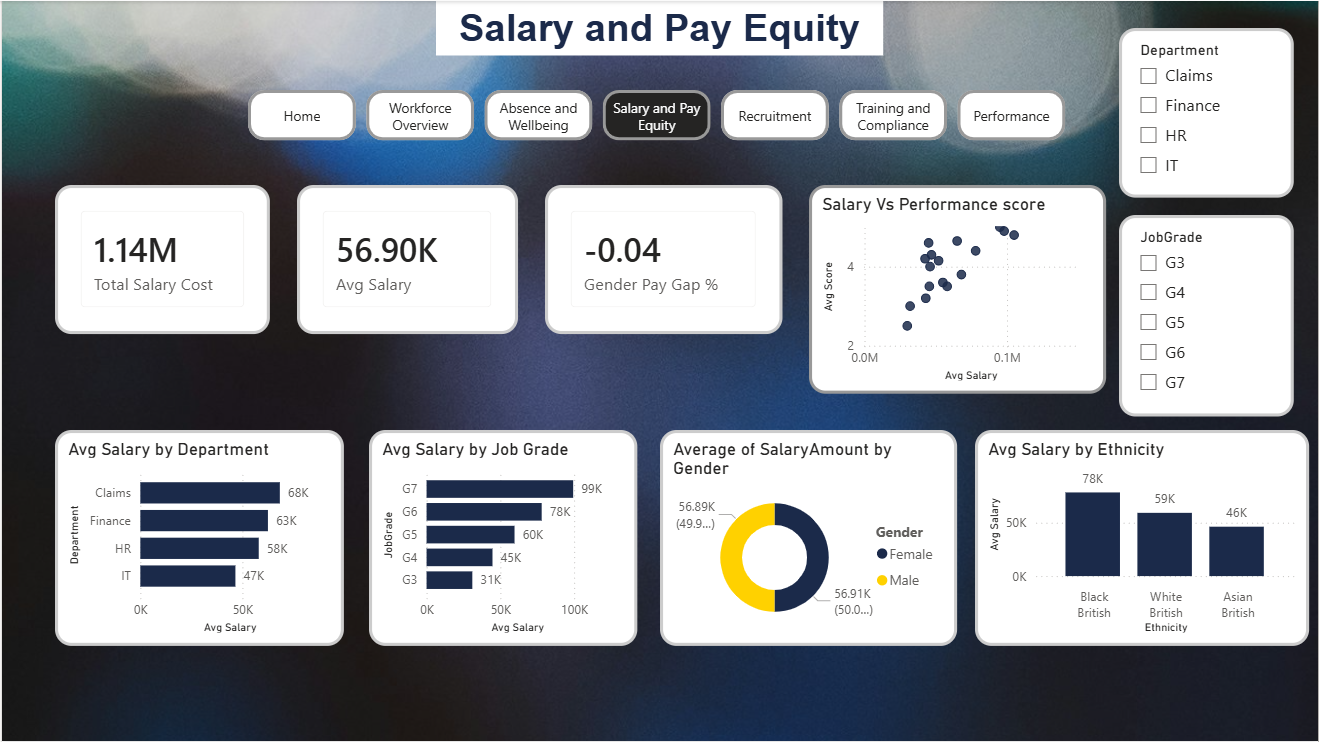

The page's visual inventory and layout, read from the dashboard file:
{"tool":"powerbi","page":{"name":"Salary and Pay Equity","canvas":[1280,720],"ordinal":3},"visuals":[{"type":"textbox","box":[422.6,0,434.8,52.5],"z":0},{"type":"pageNavigator","box":[322.9,86.6,634.2,49.6],"z":1000},{"type":"cardVisual","fields":{"Data":["Sum(Salary.SalaryAmount)"]},"box":[51.6,190.6,209.1,149.8],"z":2000},{"type":"cardVisual","fields":{"Data":["Avg(Salary.SalaryAmount)"]},"box":[309.3,190.6,215,150.8],"z":3000},{"type":"cardVisual","fields":{"Data":["vw_SalaryEquity.Gender Pay Gap %"]},"box":[572.9,190.6,230.5,150.8],"z":4000},{"type":"clusteredBarChart","title":"Avg Salary by Department","fields":{"Category":["Employees.Department"],"Y":["Avg(Salary.SalaryAmount)"]},"box":[51.6,417.3,281.1,210.1],"z":5000},{"type":"clusteredBarChart","title":"Avg Salary by Job Grade","fields":{"Y":["Avg(Salary.SalaryAmount)"],"Category":["Employees.JobGrade"]},"box":[364.7,417.3,260.7,210.1],"z":6000},{"type":"clusteredBarChart","fields":{"Y":["Avg(Salary.SalaryAmount)"],"Category":["Employees.Gender"]},"box":[657.5,417.3,256.8,210.1],"z":7000},{"type":"clusteredBarChart","fields":{"Y":["Avg(Salary.SalaryAmount)"],"Category":["Employees.Ethnicity"]},"box":[946.4,417.3,324.9,210.1],"z":8000},{"type":"slicer","fields":{"Values":["Employees.Department"]},"box":[1086.4,26.3,170.2,165.3],"z":9000},{"type":"slicer","fields":{"Values":["Employees.JobGrade"]},"box":[1086.4,208.1,170.2,196.5],"z":10000}]}

Visuals, with their boxes in screenshot pixels (x1, y1, x2, y2), scaled from the page's 1280x720 canvas onto the 1319x742 screenshot:
textbox: bbox(435, 0, 884, 54)
pageNavigator: bbox(333, 89, 986, 140)
cardVisual - Sum(Salary.SalaryAmount): bbox(53, 196, 269, 351)
cardVisual - Avg(Salary.SalaryAmount): bbox(319, 196, 540, 352)
cardVisual - vw_SalaryEquity.Gender Pay Gap %: bbox(590, 196, 828, 352)
"Avg Salary by Department" clusteredBarChart: bbox(53, 430, 343, 647)
"Avg Salary by Job Grade" clusteredBarChart: bbox(376, 430, 644, 647)
clusteredBarChart - Avg(Salary.SalaryAmount) x Employees.Gender: bbox(678, 430, 942, 647)
clusteredBarChart - Avg(Salary.SalaryAmount) x Employees.Ethnicity: bbox(975, 430, 1310, 647)
slicer - Employees.Department: bbox(1120, 27, 1295, 197)
slicer - Employees.JobGrade: bbox(1120, 214, 1295, 417)
